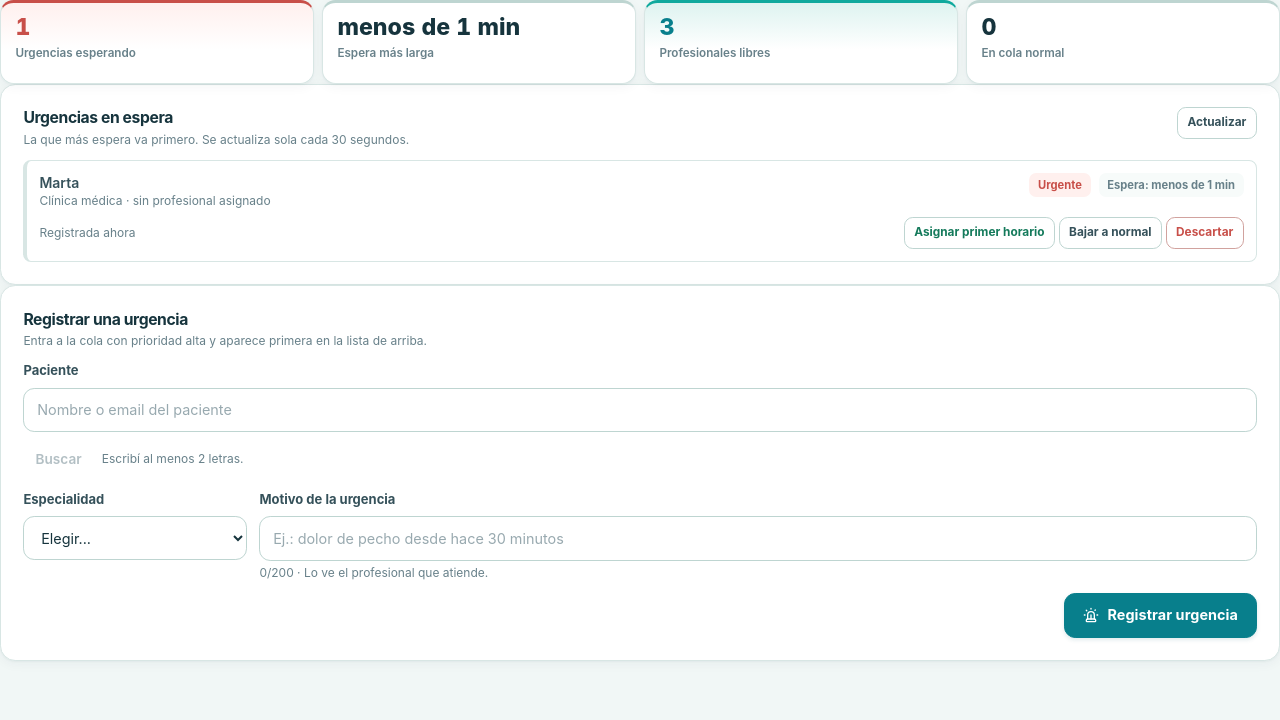
Test case: SeccionUrgencias — acciones › "Asignar primer horario" elige el horario libre más cercano y agenda
This screenshot has width=1280, height=720.
Click the button "Asignar primer horario": (979, 233) [904,217,1055,249]
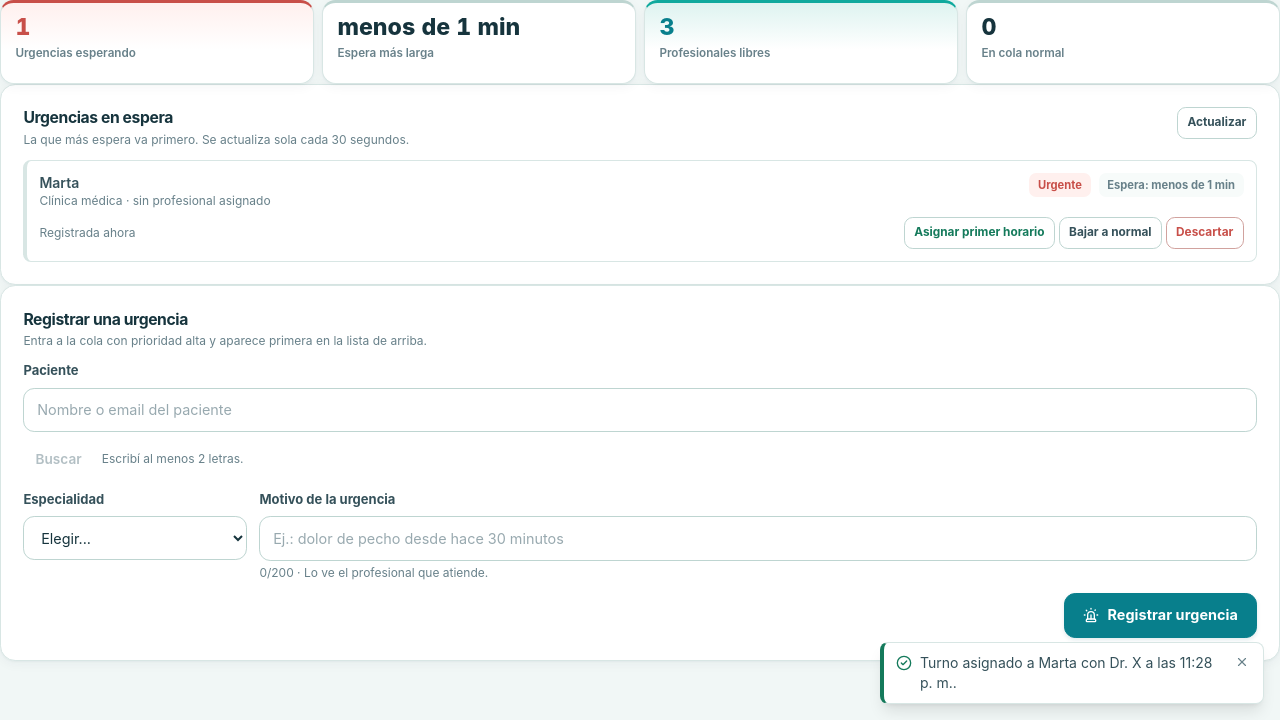
Expected: the text "Turno asignado a Marta con Dr. X a las 11:28 p. m.." is shown, [920,653,1225,693]
